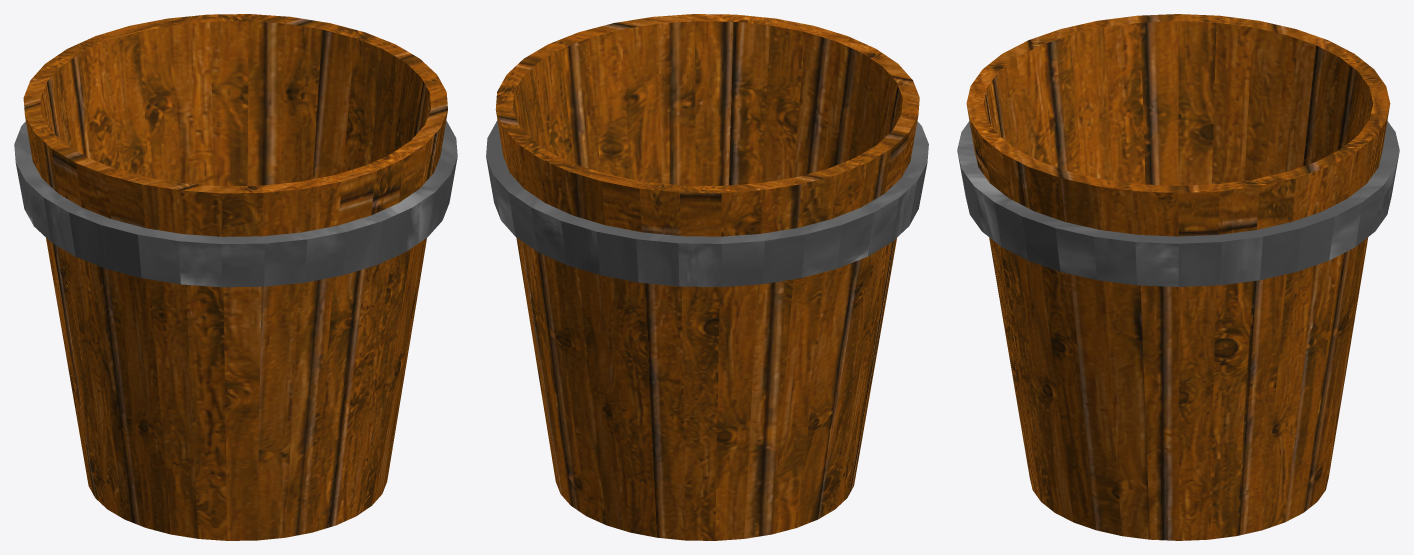
The model's file is Bucket2.glb.
3 views of the same model, side by side, from view 1: azimuth 30°, elevation 25°; view 2: azimuth 150°, elevation 25°; view 3: azimuth 270°, elevation 25° (orthographic).
Visible parts, largest first — view 1: Bucket2; view 2: Bucket2; view 3: Bucket2.
Boxes of the visible parts, x1,y1,x2,y2 form: Bucket2: (14, 14, 457, 540); Bucket2: (486, 14, 928, 540); Bucket2: (957, 14, 1399, 540).
Bounding box in the file's own units: 0.6525 × 0.6071 × 0.6525.
Materials: 2 (2 with a texture image).
